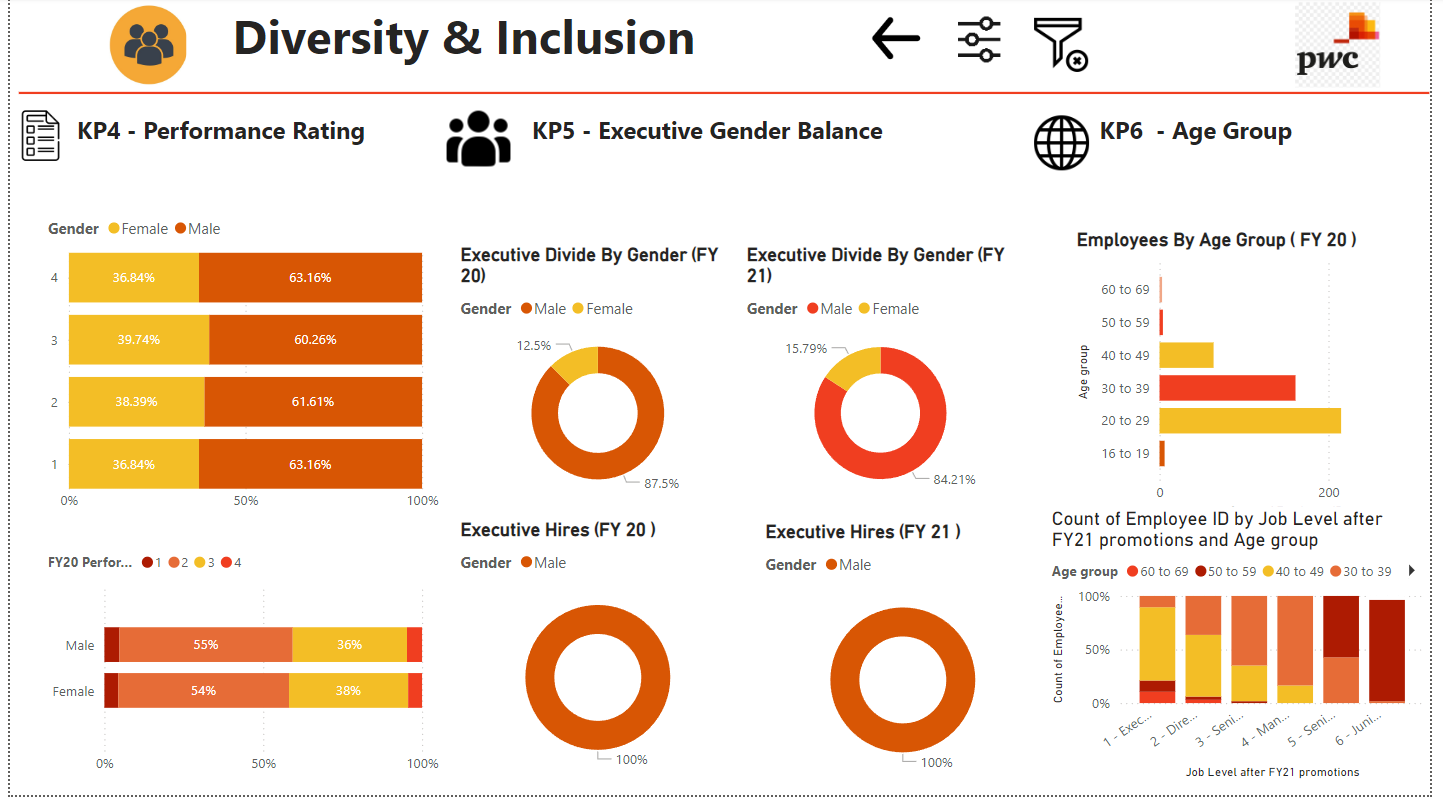

The dashboard page shown, as its layout file describes it:
{"tool":"powerbi","page":{"name":"Page 2","canvas":[1280,720],"ordinal":1},"visuals":[{"type":"shape","box":[8.1,78,1271.9,17.5],"z":0},{"type":"hundredPercentStackedBarChart","fields":{"Category":["Pharma.FY20 Performance Rating"],"Y":["CountNonNull(Pharma.Employee ID)"],"Series":["Pharma.Gender"]},"box":[29.4,187.8,362.4,284.1],"z":1000},{"type":"image","title":"Back","box":[755.9,0,85.8,74.6],"z":2000},{"type":"donutChart","title":"Executive Divide By Gender (FY 21) ","fields":{"Category":["Pharma.Gender"],"Y":["CountNonNull(Pharma.Employee ID)"]},"box":[659.6,222,251.4,238.4],"z":3000},{"type":"donutChart","title":"Executive Divide By Gender (FY 20) ","fields":{"Category":["Pharma.Gender"],"Y":["CountNonNull(Pharma.Employee ID)"]},"box":[401.6,222,258,238.4],"z":4000},{"type":"hundredPercentStackedBarChart","fields":{"Category":["Pharma.Gender"],"Y":["CountNonNull(Pharma.Employee ID)"],"Series":["Pharma.FY20 Performance Rating"]},"box":[29.4,489.8,362.4,218.8],"z":5000},{"type":"barChart","title":"Employees By Age Group ( FY 20 )","fields":{"Category":["Pharma.Age group"],"Y":["CountNonNull(Pharma.Employee ID)"]},"box":[956.7,209,323.3,266.1],"z":6000},{"type":"donutChart","title":"Executive  Hires (FY 20 ) ","fields":{"Category":["Pharma.Gender"],"Y":["CountNonNull(Pharma.Employee ID)"]},"box":[401.6,470.2,258,238.4],"z":7000},{"type":"donutChart","title":"Executive Hires (FY 21 ) ","fields":{"Category":["Pharma.Gender"],"Y":["CountNonNull(Pharma.Employee ID)"]},"box":[675.9,471.8,258,238.4],"z":8000},{"type":"hundredPercentStackedColumnChart","fields":{"Series":["Pharma.Age group"],"Y":["CountNonNull(Pharma.Employee ID)"],"Category":["Pharma.Job Level after FY21 promotions"]},"box":[933.9,460.4,346.1,249.8],"z":9000},{"type":"textbox","box":[55.7,100.2,333.9,43.1],"z":10000},{"type":"textbox","box":[465.2,100.8,398,52.4],"z":11000},{"type":"textbox","box":[977.5,100.8,281,61.8],"z":12000},{"type":"image","box":[388.6,92.8,67.2,69.9],"z":13000},{"type":"image","box":[0,95.5,55.1,57.8],"z":14000},{"type":"image","box":[918.3,100.8,59.2,61.8],"z":15000},{"type":"image","title":"Setting","box":[841.7,8.3,64,61.2],"z":16000},{"type":"image","title":"Clean Filter","box":[918.3,12.6,58.6,61.4],"z":17000},{"type":"image","title":"Logo","box":[73,0,104.6,86.3],"z":21000},{"type":"textbox","title":"Title","box":[158.6,0,500.9,73.7],"z":22000},{"type":"image","title":"PwC Logo ","box":[1150.3,0,92.5,86.5],"z":23000}]}

Visuals, with their boxes in screenshot pixels (x1, y1, x2, y2), scaled from the page's 1280x720 canvas onto the 1443x802 screenshot:
shape: detection(9, 87, 1442, 106)
hundredPercentStackedBarChart - Pharma.FY20 Performance Rating x CountNonNull(Pharma.Employee ID): detection(33, 209, 442, 526)
"Back" image: detection(852, 0, 949, 83)
"Executive Divide By Gender (FY 21) " donutChart: detection(744, 247, 1027, 513)
"Executive Divide By Gender (FY 20) " donutChart: detection(453, 247, 744, 513)
hundredPercentStackedBarChart - Pharma.Gender x CountNonNull(Pharma.Employee ID): detection(33, 546, 442, 789)
"Employees By Age Group ( FY 20 )" barChart: detection(1079, 233, 1442, 529)
"Executive  Hires (FY 20 ) " donutChart: detection(453, 524, 744, 789)
"Executive Hires (FY 21 ) " donutChart: detection(762, 526, 1053, 791)
hundredPercentStackedColumnChart - Pharma.Age group x CountNonNull(Pharma.Employee ID): detection(1053, 513, 1442, 791)
textbox: detection(63, 112, 439, 160)
textbox: detection(524, 112, 973, 171)
textbox: detection(1102, 112, 1419, 181)
image: detection(438, 103, 514, 181)
image: detection(0, 106, 62, 171)
image: detection(1035, 112, 1102, 181)
"Setting" image: detection(949, 9, 1021, 77)
"Clean Filter" image: detection(1035, 14, 1101, 82)
"Logo" image: detection(82, 0, 200, 96)
"Title" textbox: detection(179, 0, 743, 82)
"PwC Logo " image: detection(1297, 0, 1401, 96)
